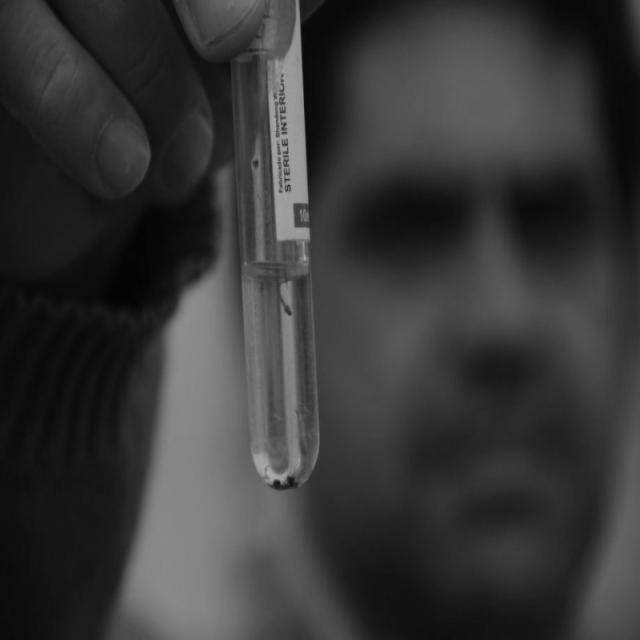larvas: (278, 277, 293, 315), (296, 408, 308, 454)
